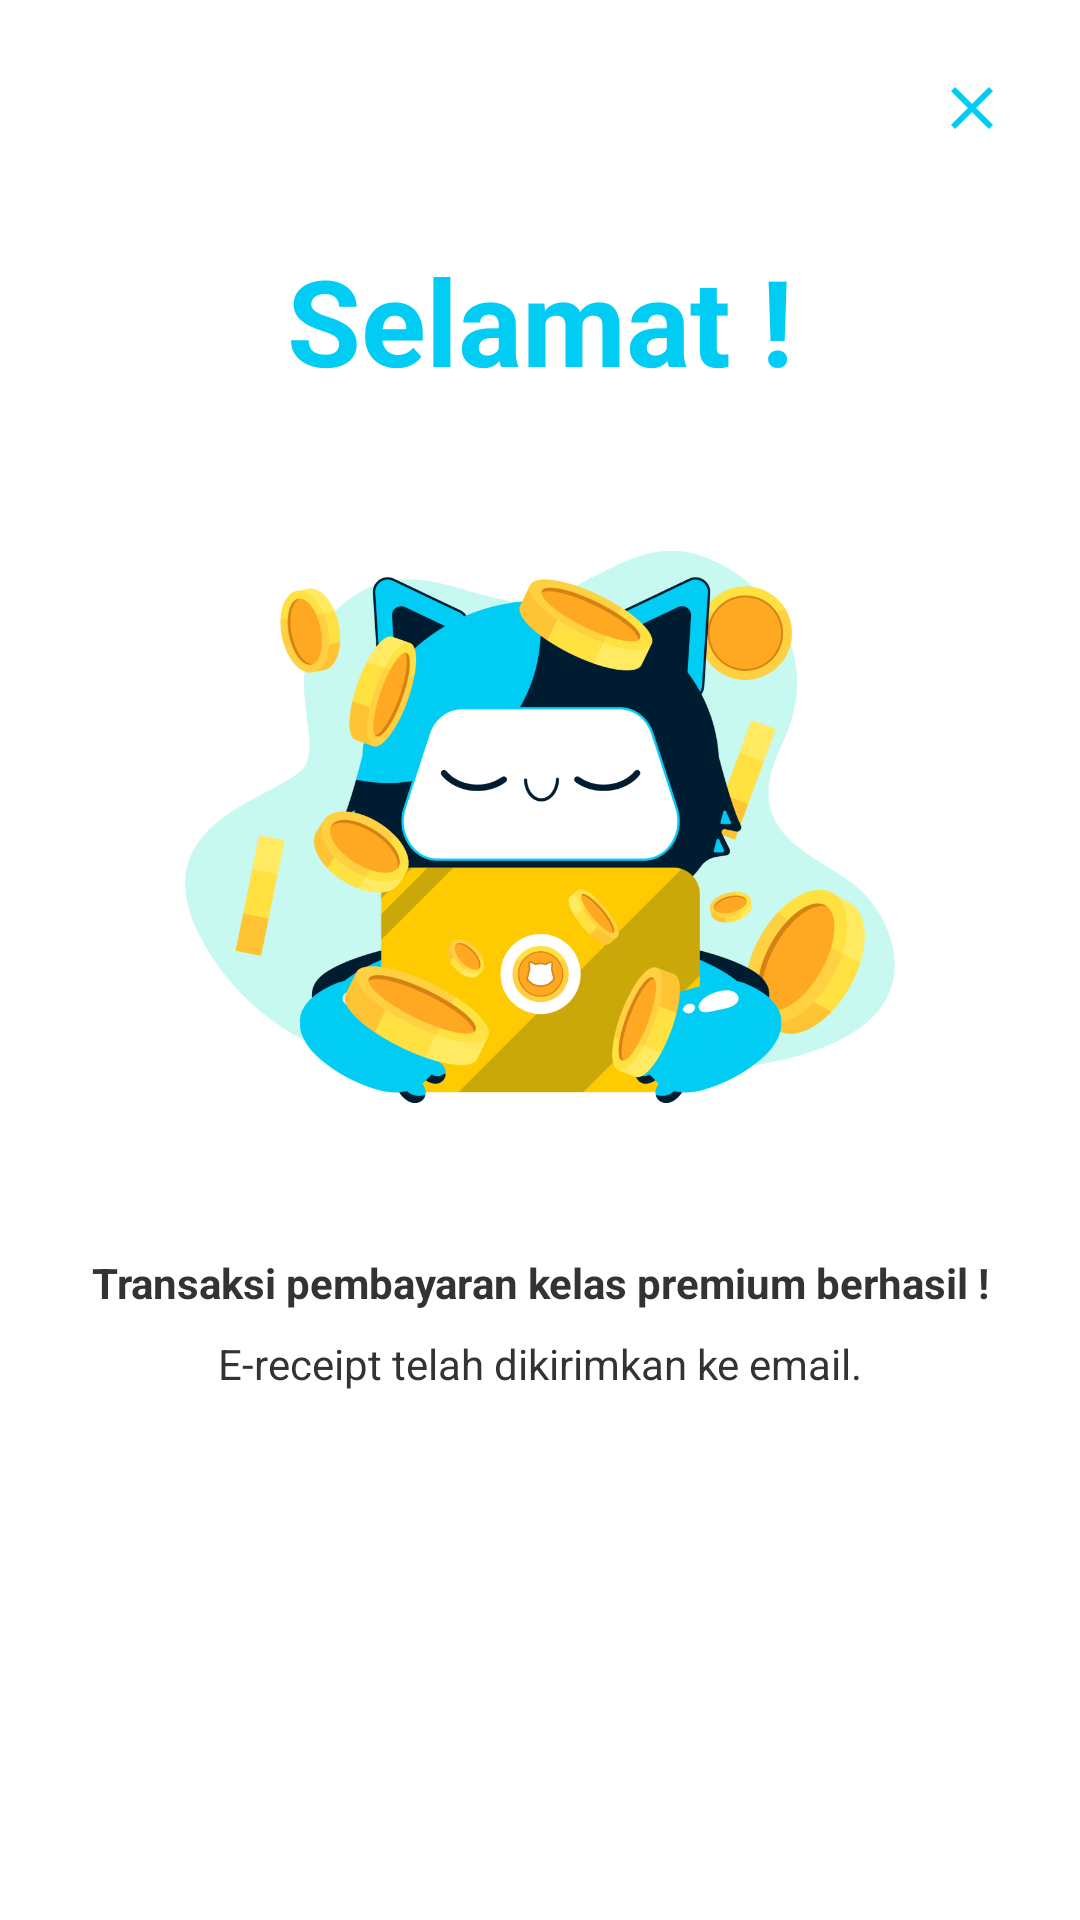

Named icons in this screenshot (1080x1920) and their bounding boxes, (x1, y1, x2, y2):
close: (951, 87, 993, 129)
